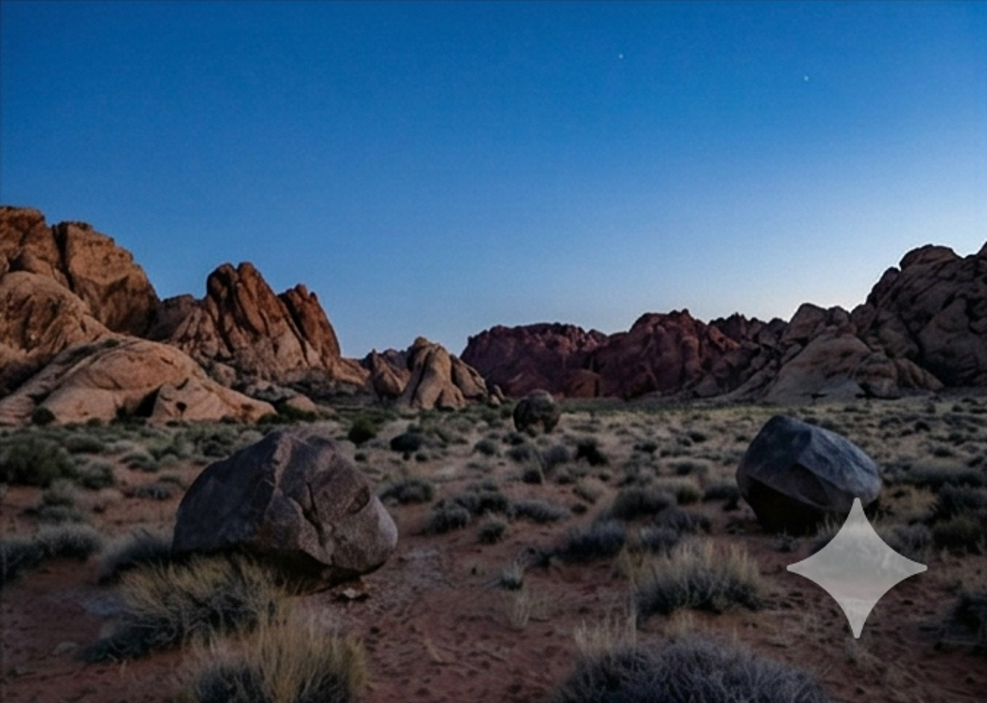rocks: (172, 426, 397, 584), (737, 415, 881, 532), (514, 391, 560, 431)
